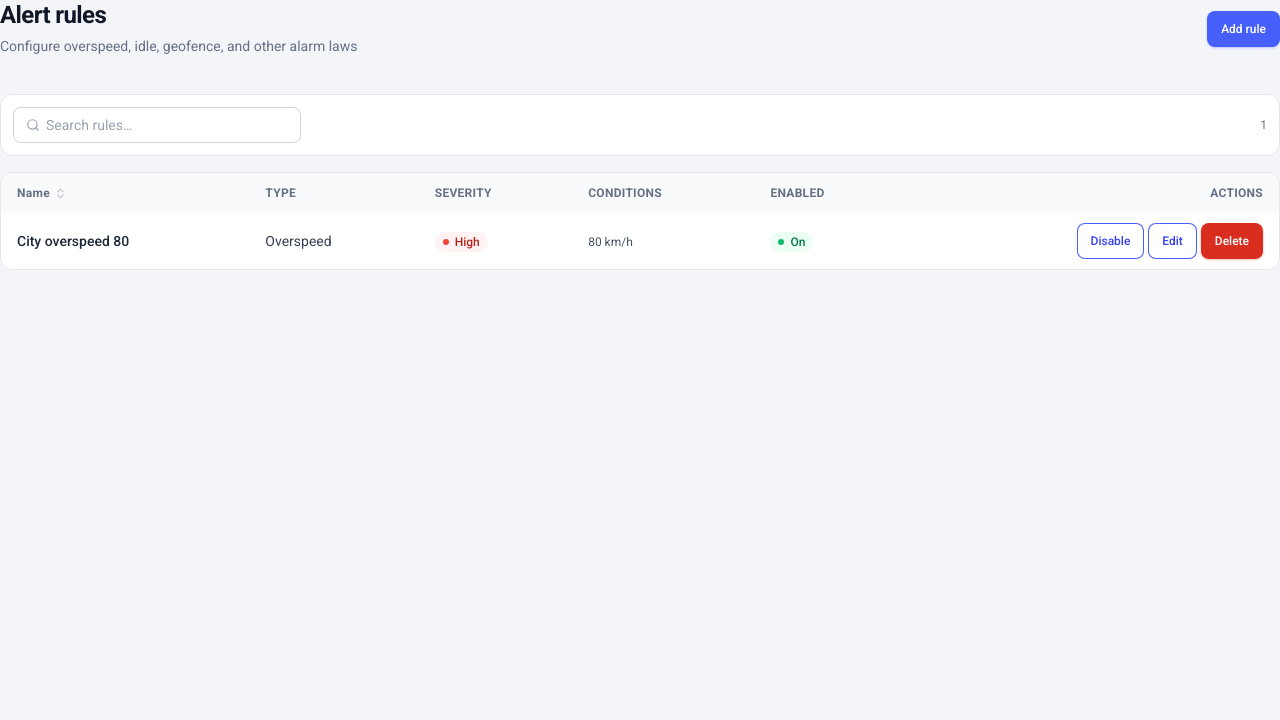
Scenario: AlarmRulesPage › lists existing rules and opens the create form
The image size is (1280, 720).
Expected: the heading "Alert rules" is shown, [0,1,106,29]
Expected: the text "City overspeed 80" is shown, [17,233,129,249]
Click the button "Add rule" at (1244, 29), box [1207,11,1279,47]
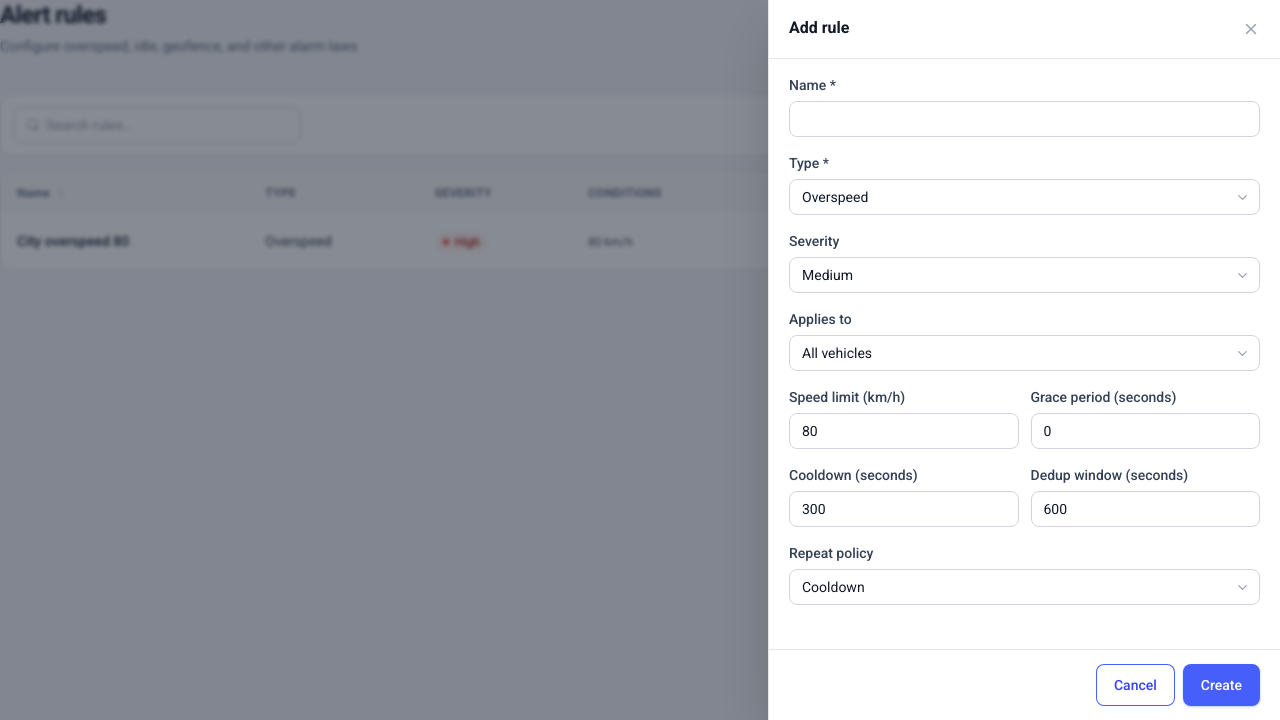
Expected: the field labelled "Name *" is shown, [789,101,1260,137]
